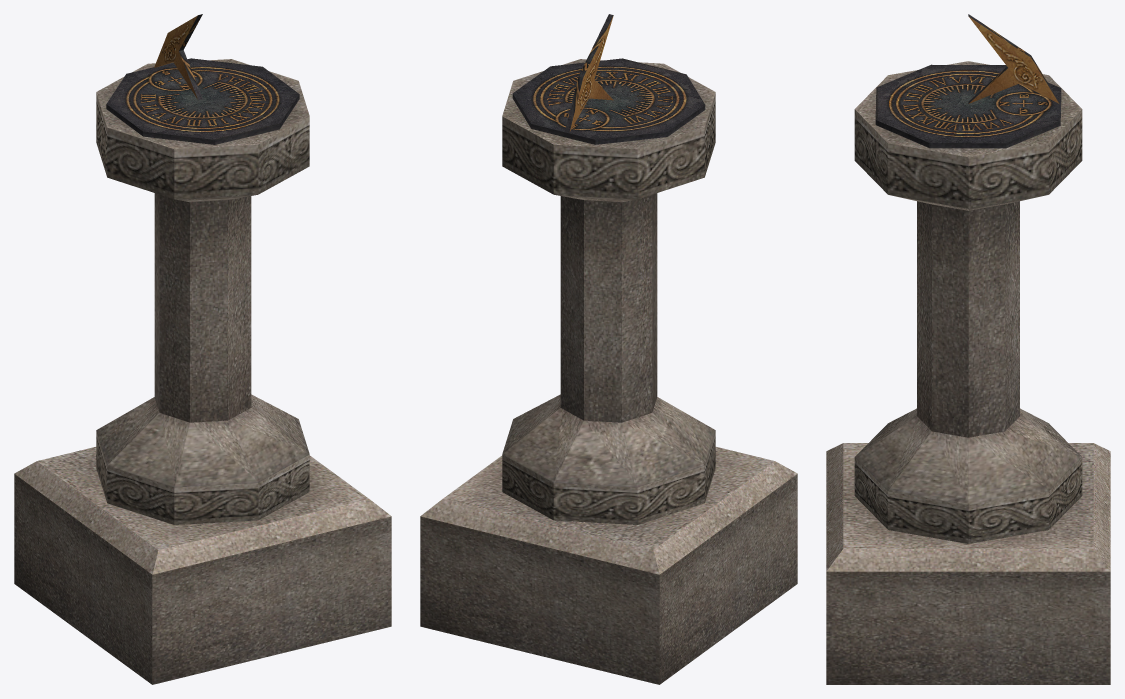
Rendered from sundial.dae.
3 views of the same model, side by side, from view 1: azimuth 30°, elevation 25°; view 2: azimuth 150°, elevation 25°; view 3: azimuth 270°, elevation 25° (orthographic). The views are drawn at different scales.
Visible parts, largest first — view 1: default; view 2: default; view 3: default.
Boxes of the visible parts, box(x1,y1,x2,y2) form: default: box(14, 14, 391, 684); default: box(420, 14, 797, 684); default: box(826, 14, 1110, 684).
Size of the model in its own units: 0.53 by 1.25 by 0.53.
